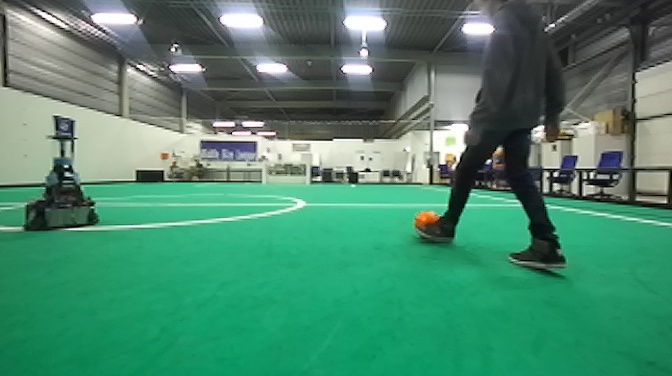ball: (411, 205, 440, 241)
goal: (261, 161, 309, 187)
goalpost: (261, 161, 266, 186), (306, 161, 309, 187)
human: (414, 1, 573, 277)
robot: (19, 110, 104, 235)
